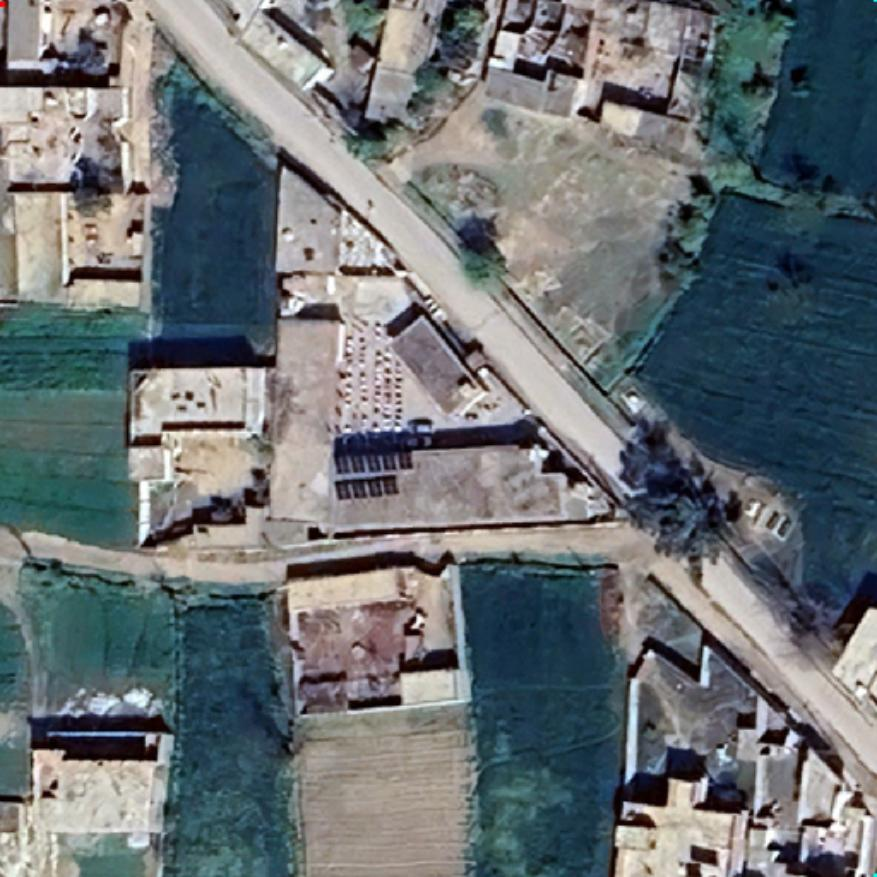Solarpanel: (328, 444, 418, 478), (330, 472, 404, 506)
